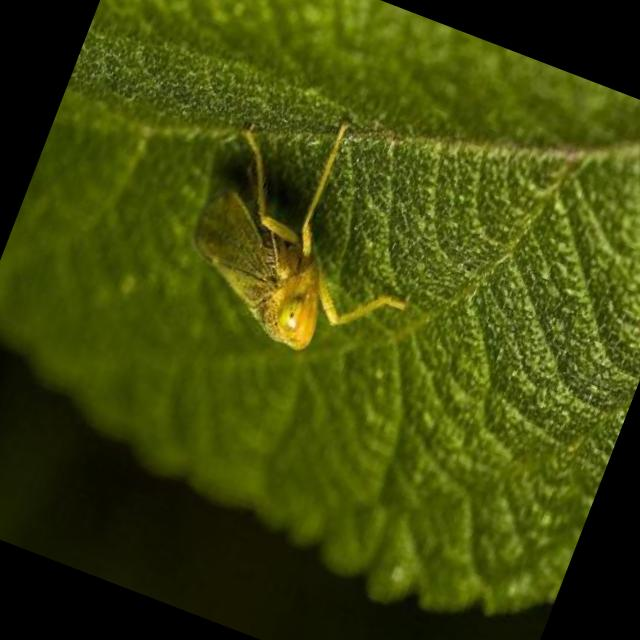green-leafhopper: (168, 82, 466, 384)
